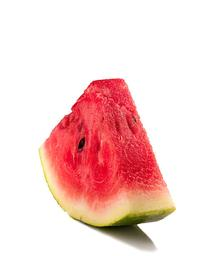watermelon: (38, 78, 178, 230)
